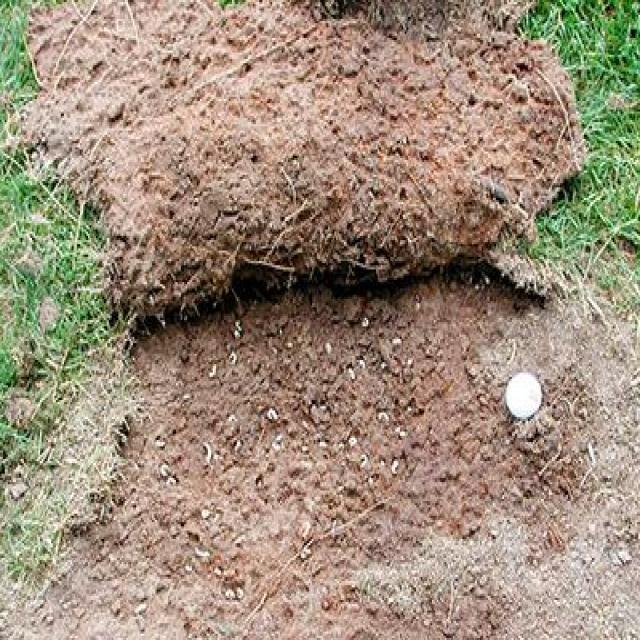Grub-Adult-: (382, 455, 404, 482), (200, 433, 217, 467), (368, 404, 392, 428), (258, 400, 281, 425), (150, 458, 174, 478), (355, 447, 372, 474), (190, 542, 214, 561), (354, 316, 375, 334), (223, 350, 242, 367), (164, 477, 182, 491)
